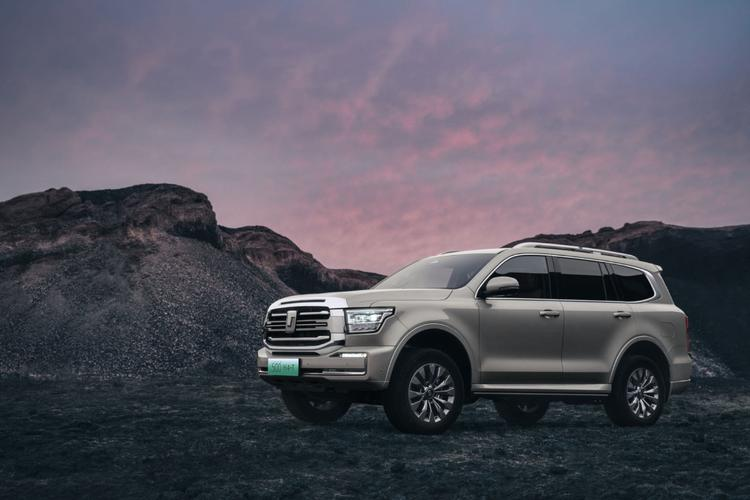汽车: (257, 235, 702, 450)
